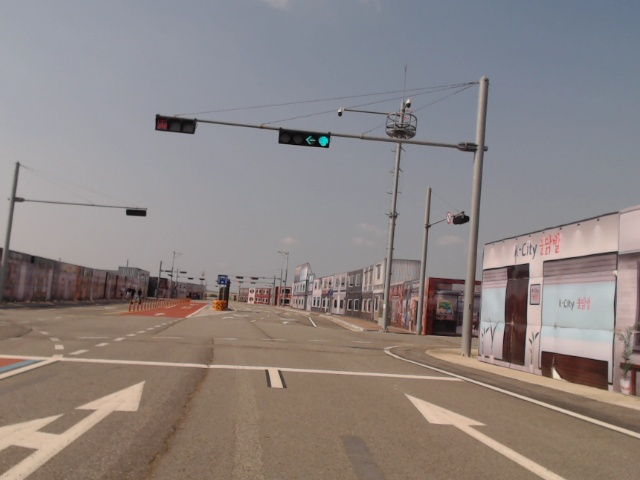all_green_4: (278, 128, 331, 149)
